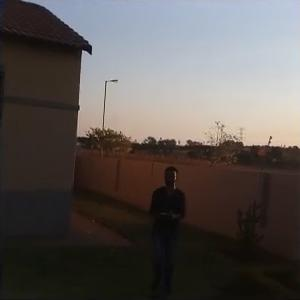follow: (142, 159, 188, 298)
